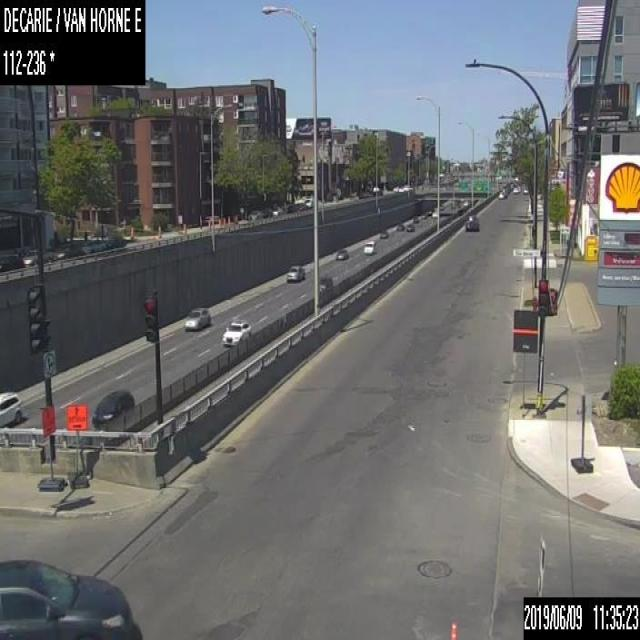construction: (38, 404, 64, 488), (64, 401, 87, 486), (572, 381, 592, 469), (448, 619, 456, 639), (129, 224, 134, 241), (157, 225, 161, 238), (207, 220, 211, 229), (227, 214, 230, 226), (182, 224, 185, 235), (222, 216, 225, 227), (217, 218, 221, 226)
vehicle: (0, 557, 132, 639), (92, 390, 136, 430), (0, 390, 22, 430), (221, 318, 251, 346), (184, 307, 210, 329), (0, 252, 23, 272), (22, 249, 47, 265), (54, 242, 80, 257), (80, 240, 105, 253), (286, 264, 304, 281), (106, 233, 126, 248), (318, 275, 333, 292), (465, 216, 478, 230), (364, 240, 376, 254), (335, 248, 348, 260), (270, 205, 284, 216), (248, 210, 263, 220), (302, 197, 312, 208), (286, 203, 298, 212), (297, 201, 305, 210), (378, 230, 388, 237), (396, 222, 404, 230), (406, 223, 413, 230), (431, 211, 439, 217), (522, 186, 528, 193), (512, 186, 518, 193), (498, 191, 503, 198), (413, 216, 418, 222)
